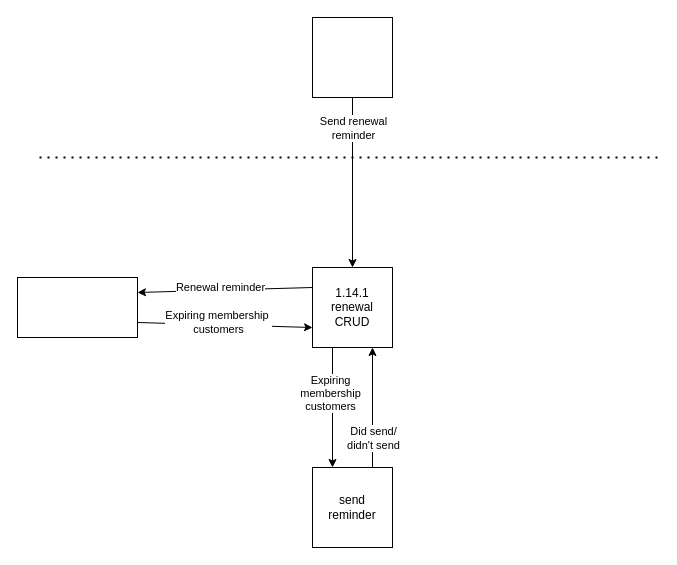
The diagram is 677 pixels wide and 565 high, and some of its shapes have lost their labels. The centre of each missing label's shape, as x and y in pixels:
"D1 Customers" belongs at pixel 77 307.
"User" belongs at pixel 352 57.
